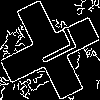L: (25, 25, 78, 70)
